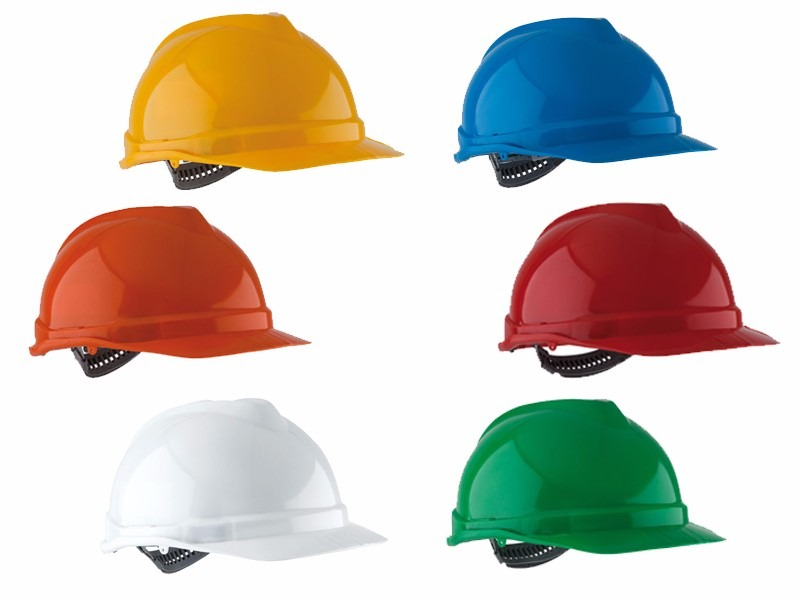casco: (94, 395, 392, 577), (117, 11, 408, 191), (496, 200, 783, 381), (28, 204, 314, 380), (444, 397, 728, 571), (451, 15, 721, 190)
